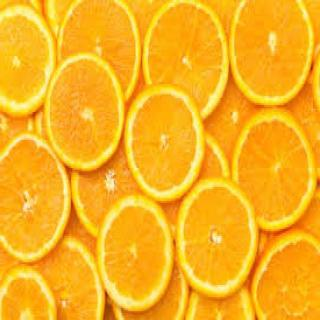orange: (174, 169, 265, 301), (36, 50, 126, 182), (119, 84, 207, 212), (97, 182, 173, 312)
